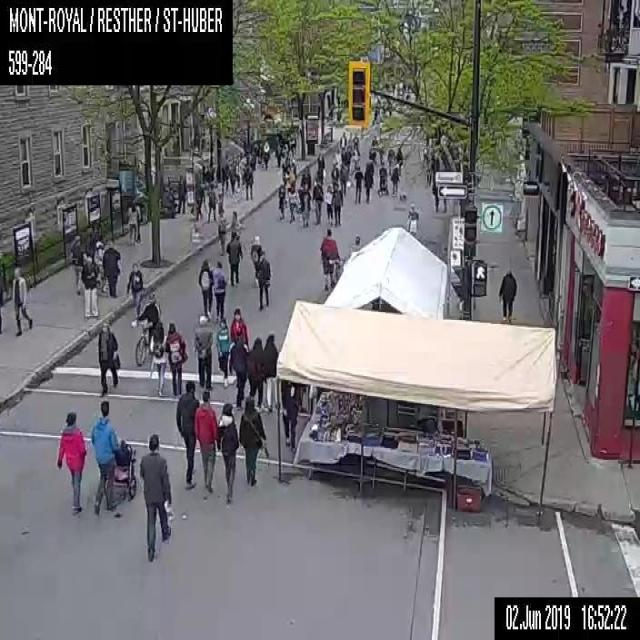cyclist: (131, 292, 159, 365)
pedestrian: (89, 399, 136, 515), (138, 432, 172, 560), (56, 411, 88, 513), (238, 396, 268, 484), (194, 389, 218, 490), (175, 380, 197, 490), (217, 401, 238, 502), (96, 320, 120, 394), (165, 321, 187, 396), (226, 332, 246, 408), (320, 228, 344, 289), (12, 266, 32, 335), (150, 321, 167, 396), (247, 336, 264, 409), (263, 332, 278, 410), (102, 240, 121, 296), (81, 256, 98, 318), (126, 261, 145, 316), (497, 269, 516, 320), (214, 318, 228, 387), (226, 228, 242, 288), (254, 251, 270, 309), (198, 258, 213, 318), (212, 259, 227, 318), (70, 235, 84, 292), (279, 378, 290, 446), (92, 239, 105, 292), (229, 307, 247, 344), (289, 383, 298, 451), (132, 196, 145, 242), (250, 234, 260, 287), (312, 177, 323, 224), (298, 184, 310, 226), (332, 180, 342, 225), (206, 182, 217, 222), (194, 182, 205, 220), (377, 158, 388, 194), (362, 165, 373, 201), (352, 164, 362, 203), (127, 204, 137, 243), (287, 185, 297, 223), (217, 208, 225, 255), (406, 203, 418, 234), (323, 184, 332, 224), (242, 165, 252, 200), (389, 162, 399, 196), (228, 210, 240, 238), (177, 175, 186, 212), (0, 268, 5, 332), (277, 182, 285, 220), (300, 164, 311, 190), (228, 164, 236, 196), (289, 158, 297, 187), (387, 146, 394, 174), (395, 146, 402, 174), (339, 164, 345, 195), (350, 234, 361, 250), (349, 151, 357, 173), (281, 162, 289, 184), (263, 140, 269, 169), (368, 144, 376, 164), (364, 154, 374, 170), (274, 143, 280, 166), (316, 163, 324, 180), (339, 130, 346, 149), (316, 152, 324, 168), (331, 163, 338, 181), (204, 164, 211, 182), (345, 146, 350, 169), (378, 146, 384, 164), (352, 131, 358, 148), (370, 134, 378, 146), (340, 146, 345, 165), (347, 131, 352, 149)
